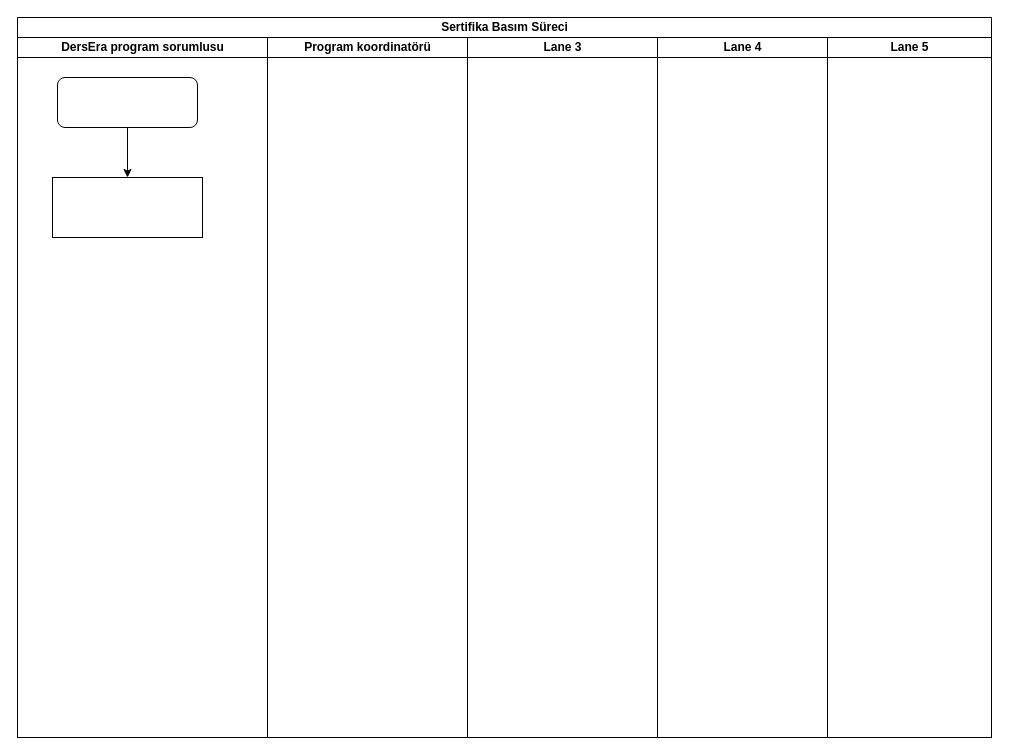
The diagram is 1009 pixels wide and 755 high, and some of its shapes have lost their labels. The shapes that lost their labels are listed below. From the top down, each one's centre as x and y in pixels, then its label:
At point (127, 102): "Programa ait sınav/sunumlar gerçekleştirilir.".
At point (127, 207): "Hak kazananların listesini oluşturur.".
